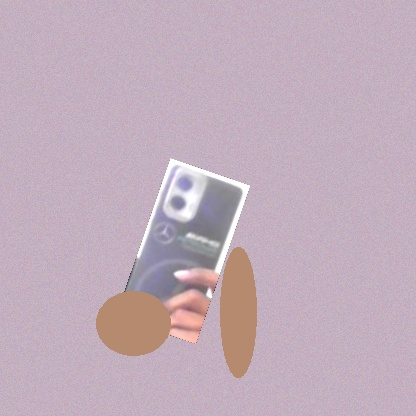cell_phone: (115, 158, 250, 344)
